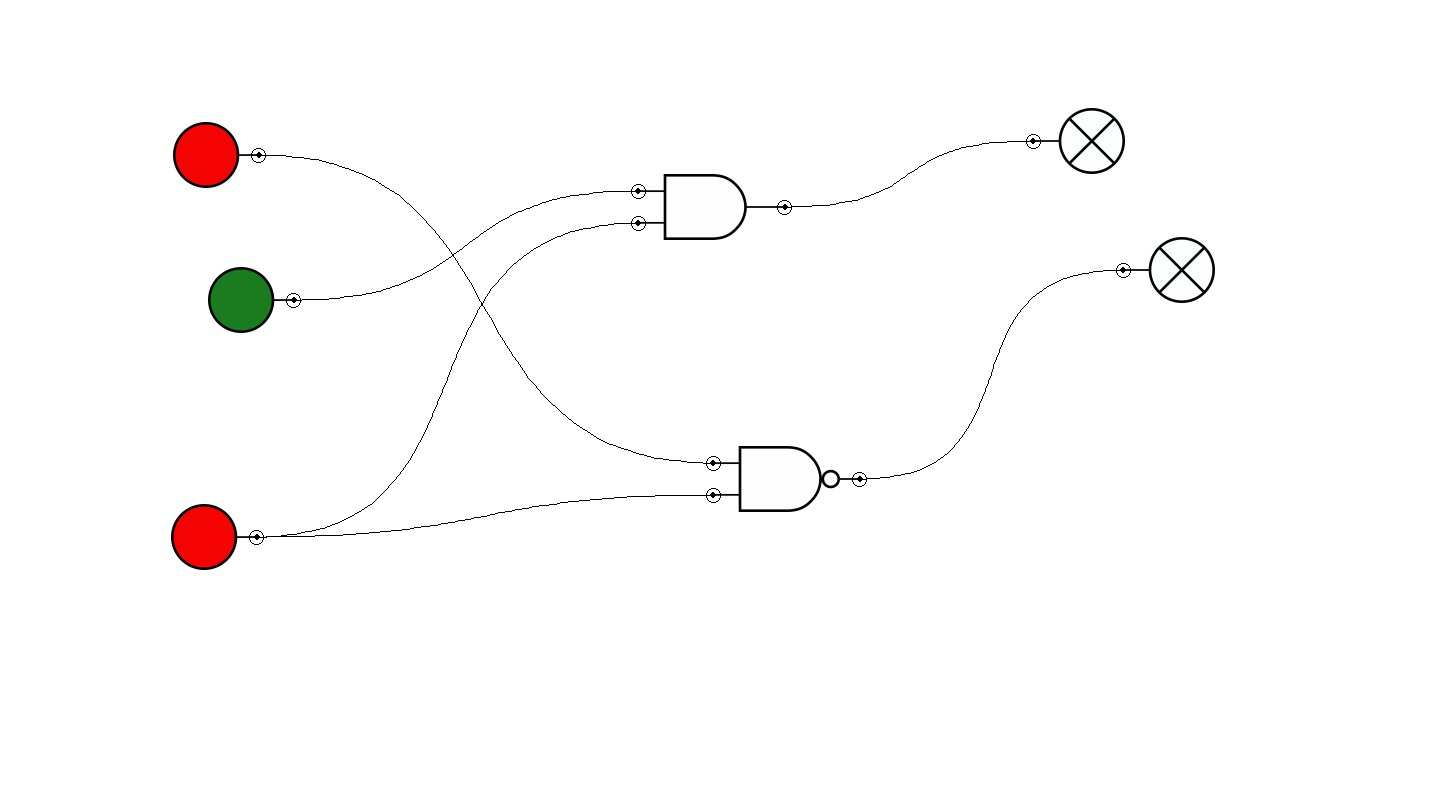and: (631, 174, 792, 240)
bulb: (1026, 108, 1125, 174), (1116, 237, 1215, 303)
nand: (706, 446, 867, 512)
switch_False: (171, 504, 264, 570), (173, 122, 266, 188)
switch_True: (208, 267, 301, 333)
